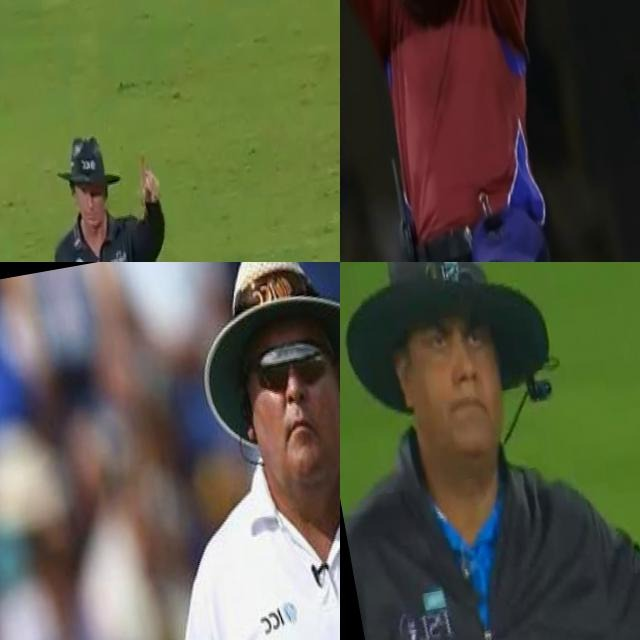No_Action: (58, 262, 340, 640)
No_Ball: (340, 262, 640, 640)
Out: (16, 114, 217, 262)
Six: (340, 0, 596, 262)
